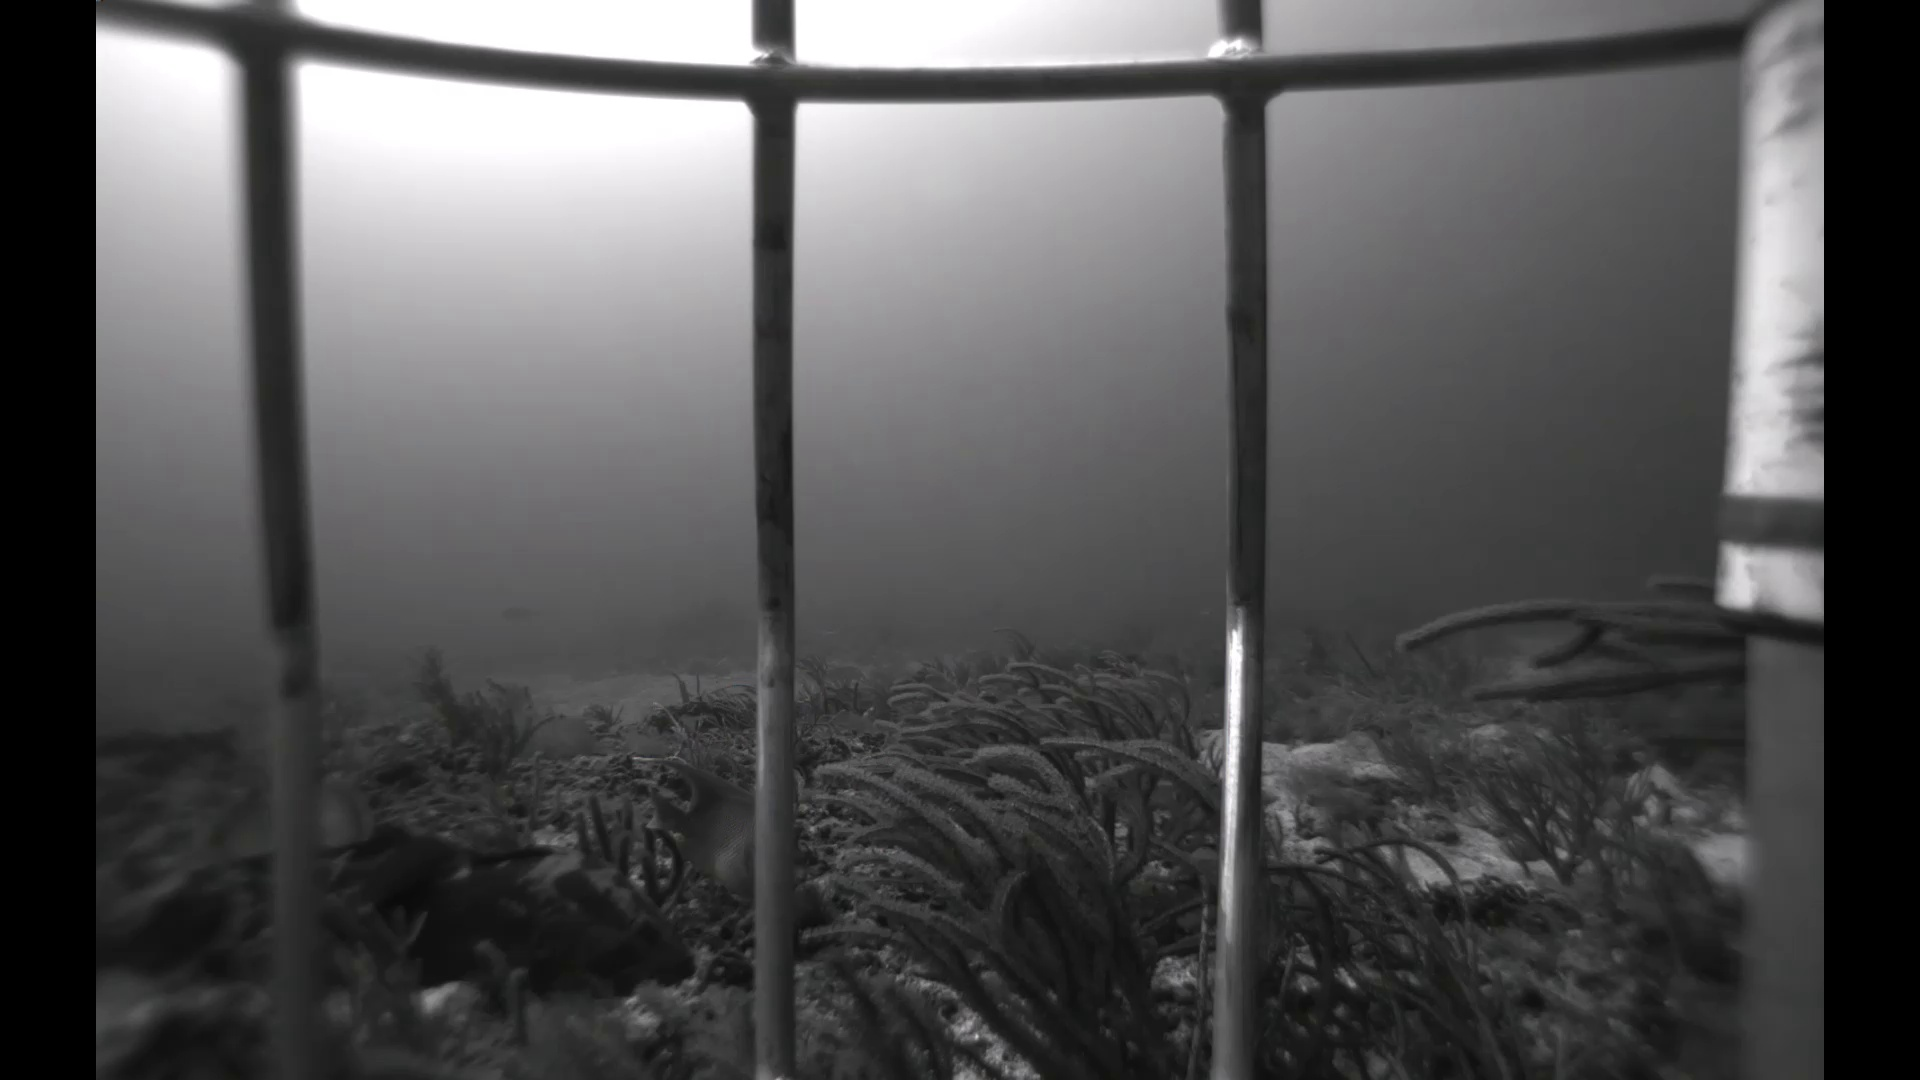CHAETODONOCELLATUS-170260307: (191, 795, 274, 872), (313, 781, 381, 852)
EPINEPHELUSMORIO-170021211: (327, 807, 711, 1054)
HOLACANTHUSBERMUDENSIS-170290102: (640, 745, 823, 909)
IOGLOSSUS-170550800: (1193, 603, 1218, 621), (713, 655, 731, 669), (560, 673, 575, 687), (822, 628, 839, 638), (719, 673, 733, 680)
PAGRUSPAGRUS-170212302: (491, 596, 568, 632)
